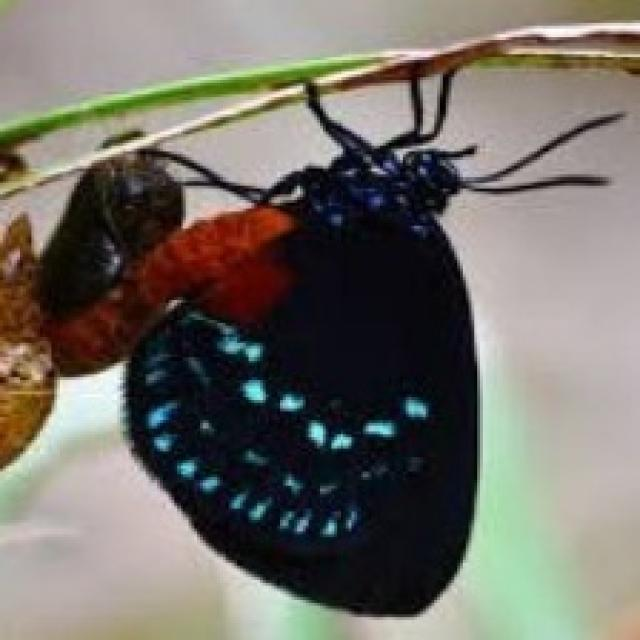butterfly: (0, 57, 631, 617)
